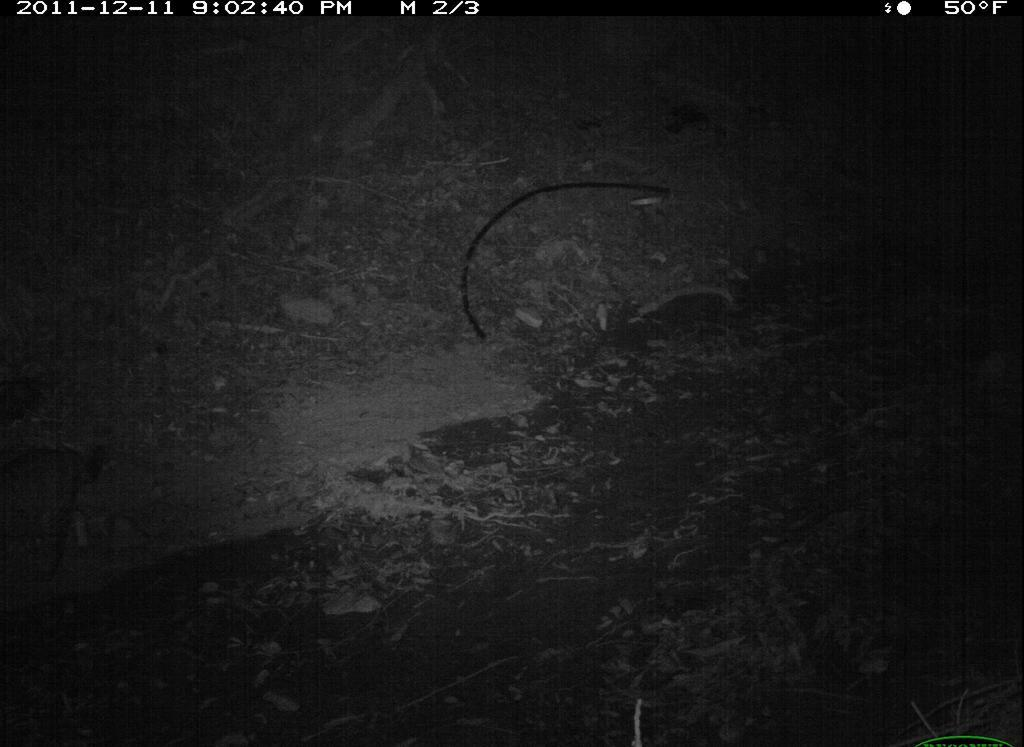cat: (1, 434, 123, 609)
